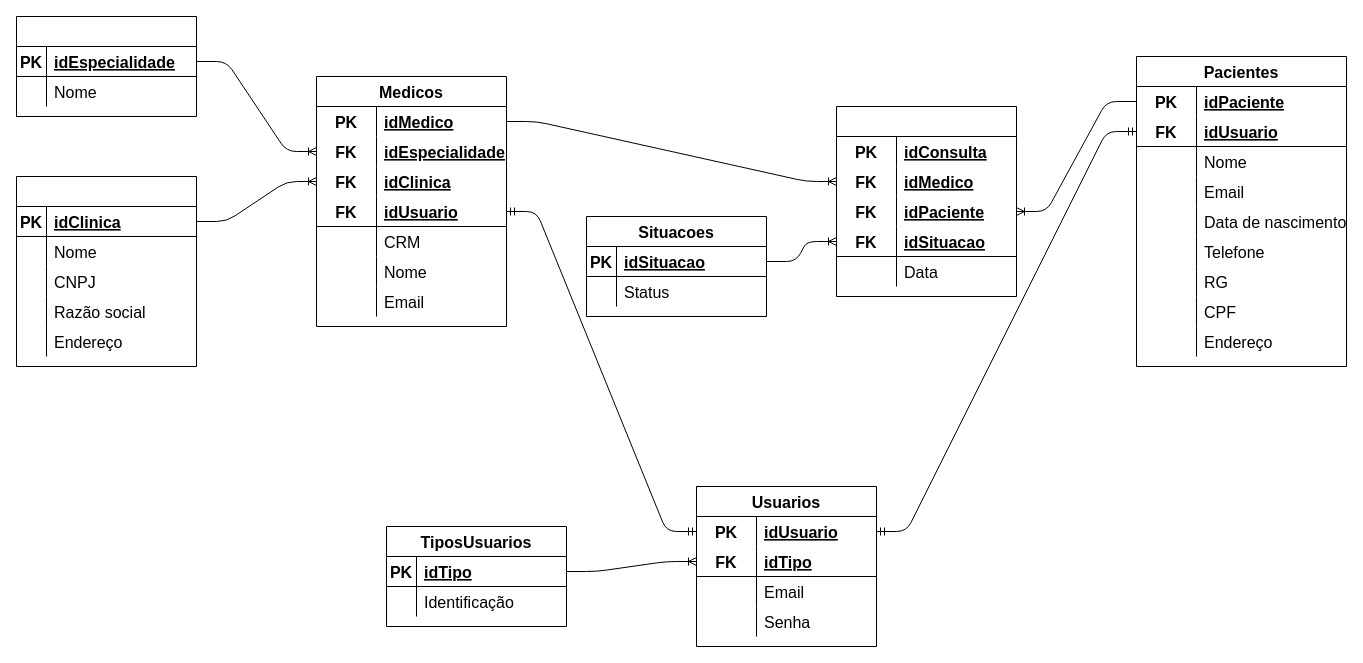
This 1363x663 diagram has some shape labels left out. The shapes that lost their labels are listed below. From the top down, each one's box as (x1, y1, x2, y2) in pixels, then its label:
(16, 16, 196, 116): Especialidades
(836, 106, 1016, 296): Consultas
(16, 176, 196, 366): Clinicas
